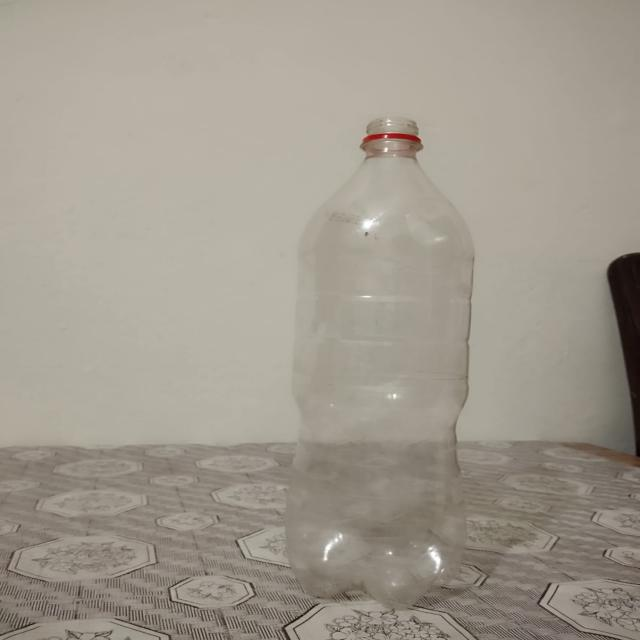bottle: (274, 115, 481, 608)
